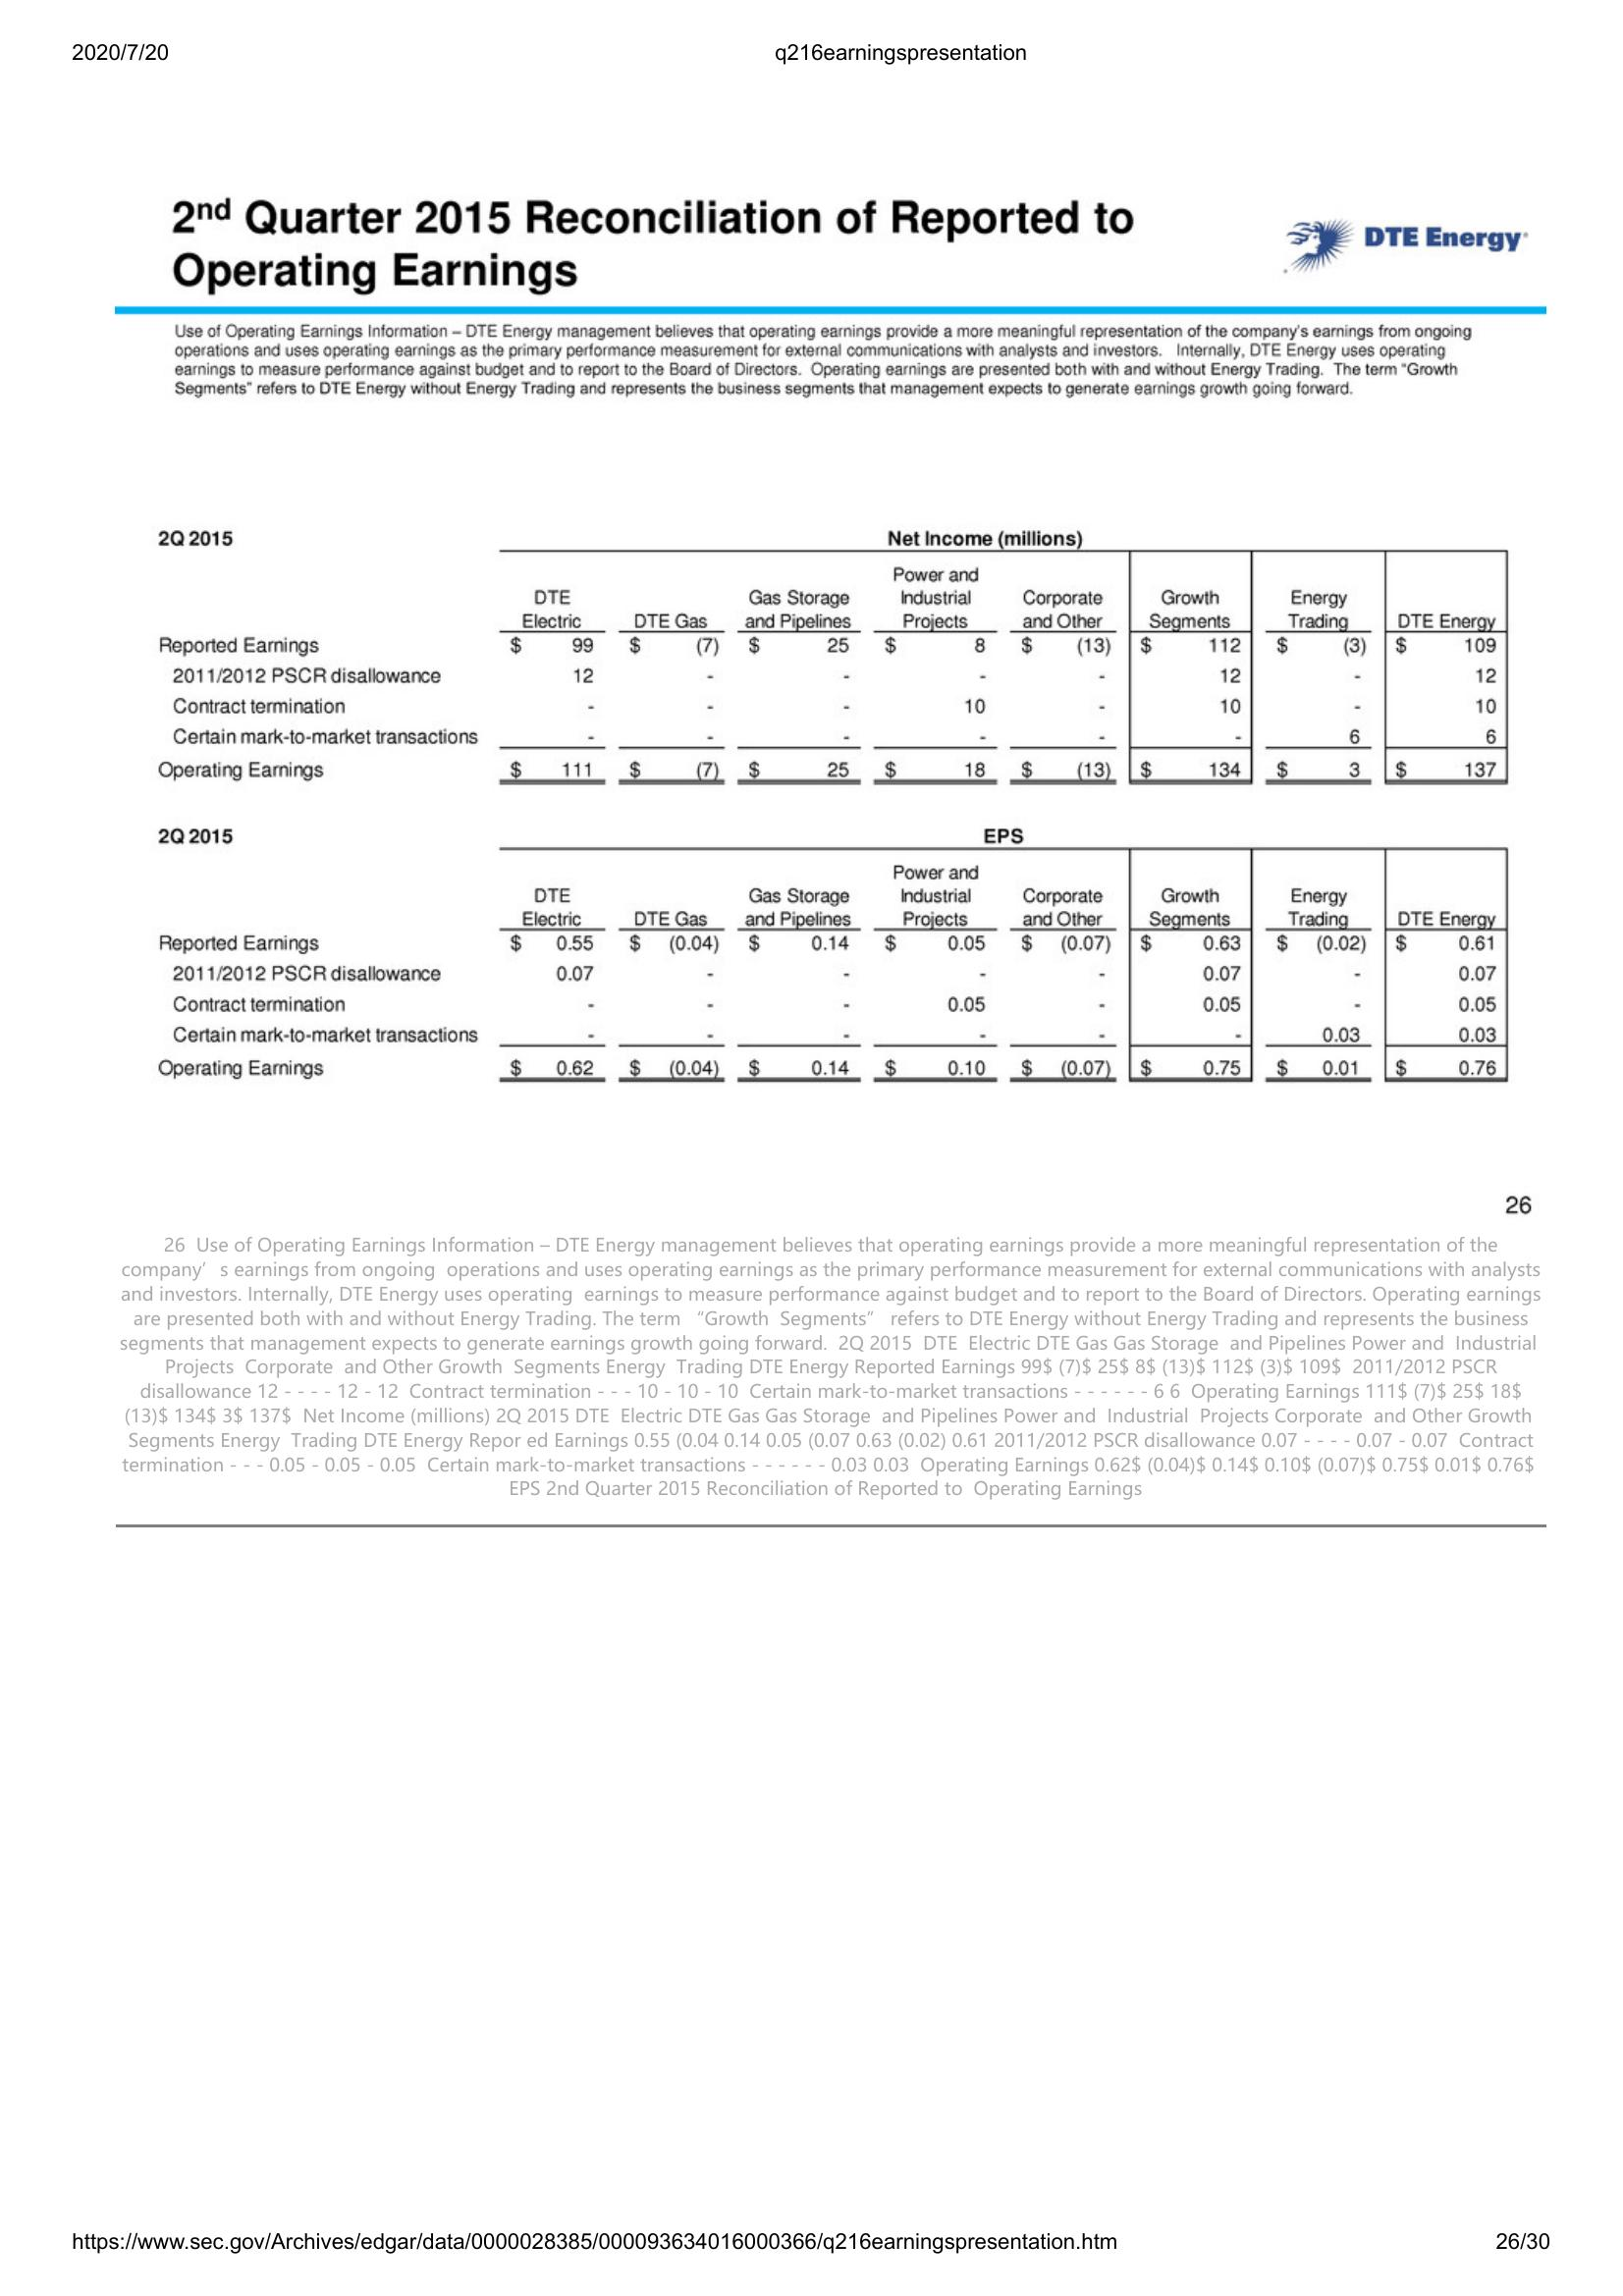table: (144, 820, 1518, 1095), (151, 518, 1518, 793)
